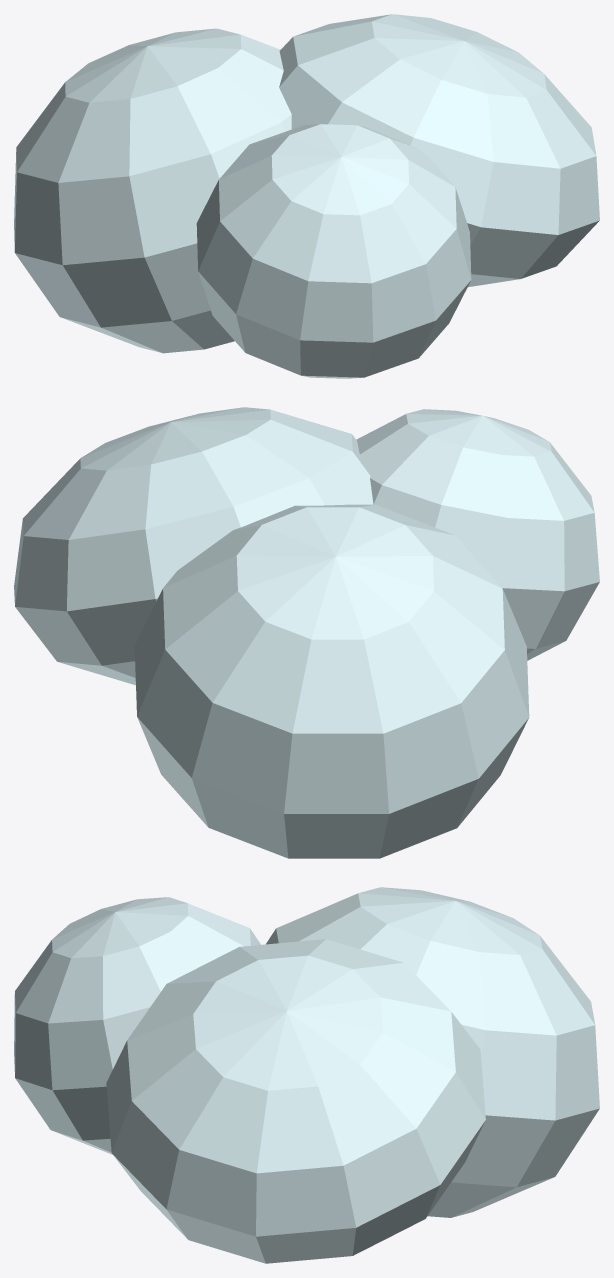
File: nube.glb
3 renders of one model, top to bottom at view 1: azimuth 30°, elevation 25°; view 2: azimuth 150°, elevation 25°; view 3: azimuth 270°, elevation 25°, orthographic. The views are drawn at different scales.
Visible parts, largest first — view 1: sphere (×3); view 2: sphere (×3); view 3: sphere (×3).
Part boxes in pixels (x1,y1,x2,y2): sphere (×3): [14, 14, 599, 378]; sphere (×3): [14, 407, 599, 858]; sphere (×3): [14, 887, 599, 1263].
Bounding box in the file's own units: 1.53 × 0.9123 × 1.56.
1 material, 1 textured.
